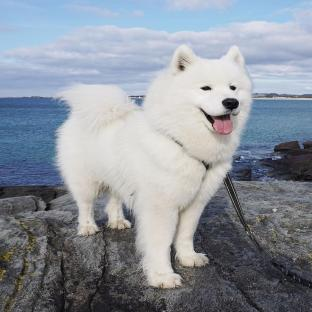Animal: (56, 45, 252, 288)
